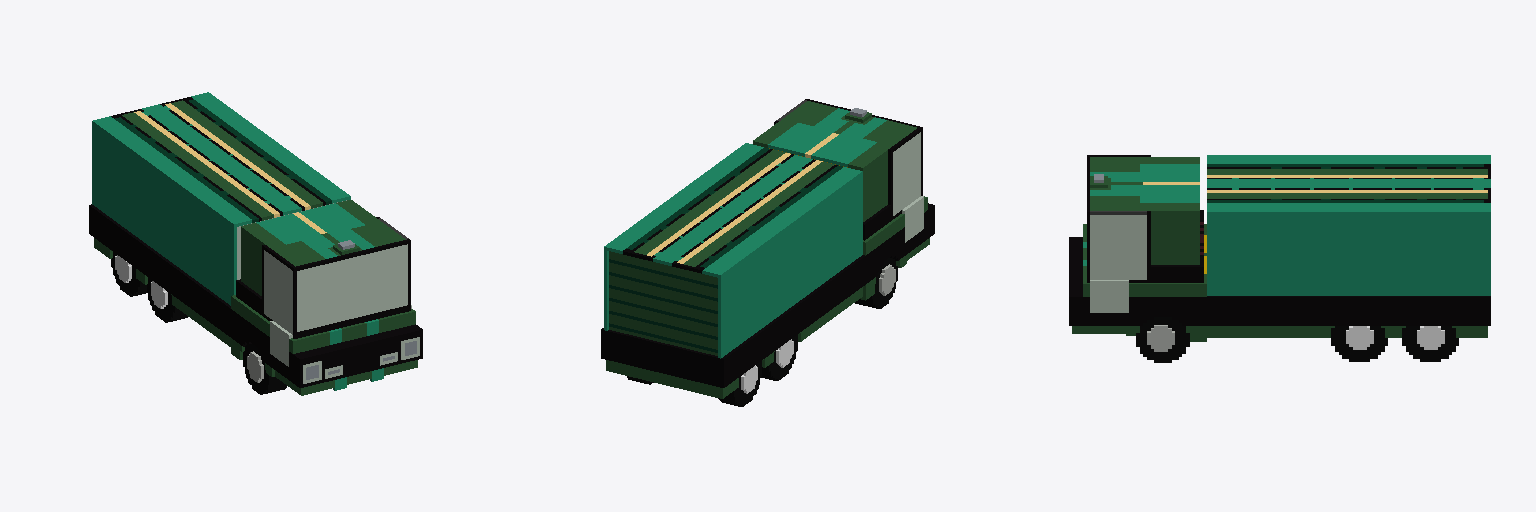
3 renders of one model, left to right at view 1: azimuth 30°, elevation 25°; view 2: azimuth 150°, elevation 25°; view 3: azimuth 270°, elevation 25°, orthographic.
Parts seen in each view (by area): view 1: bldr_TruckFourth; view 2: bldr_TruckFourth; view 3: bldr_TruckFourth.
Boxes of the visible parts, x1=… form: bldr_TruckFourth: x1=89, y1=92, x2=422, y2=395; bldr_TruckFourth: x1=601, y1=99, x2=934, y2=406; bldr_TruckFourth: x1=1069, y1=155, x2=1490, y2=362.
Bounding box in the file's own units: 40 × 49 × 119.
1 materials, 1 textured.